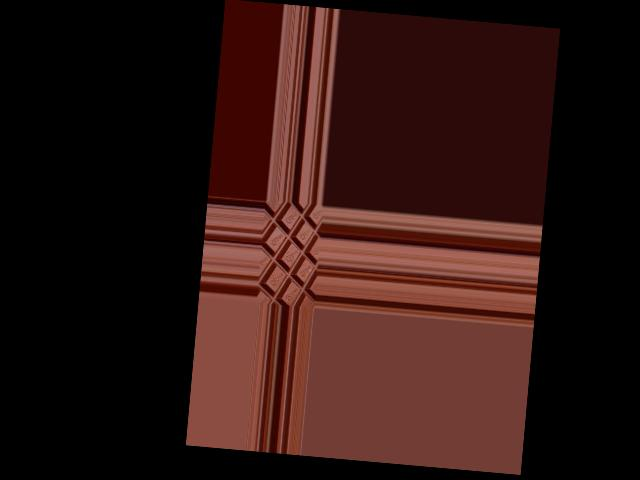chocolate: (255, 203, 321, 308)
